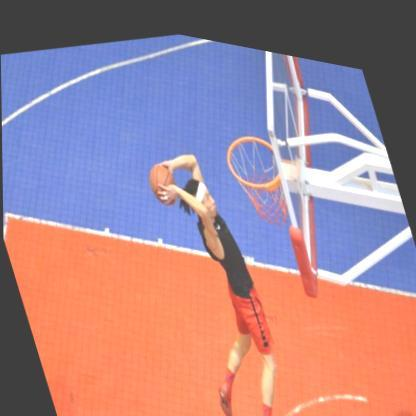basketball: (143, 151, 180, 202)
rim: (219, 116, 294, 228)
